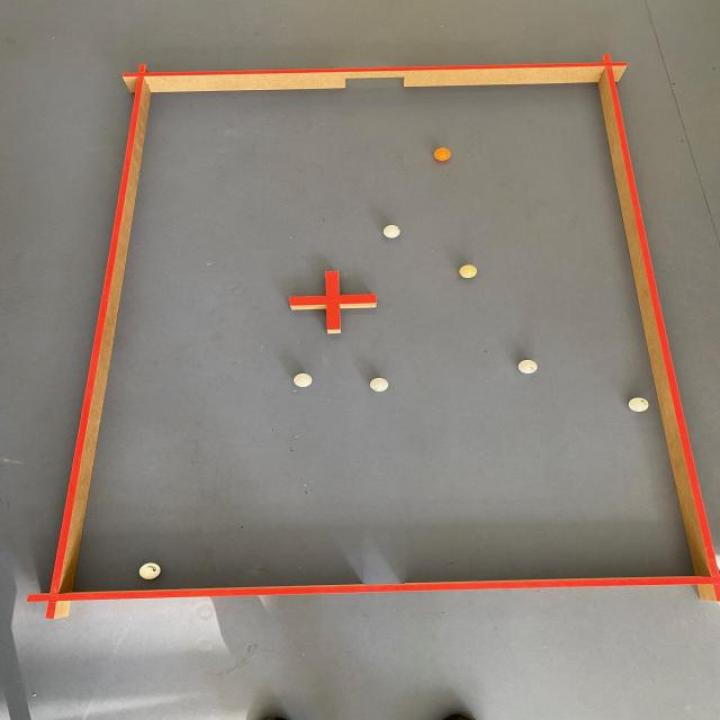orange: (430, 142, 456, 165)
white: (134, 557, 170, 584), (516, 357, 548, 380), (365, 375, 397, 396), (379, 220, 407, 242), (290, 369, 318, 391), (624, 396, 652, 415), (456, 262, 482, 281)
